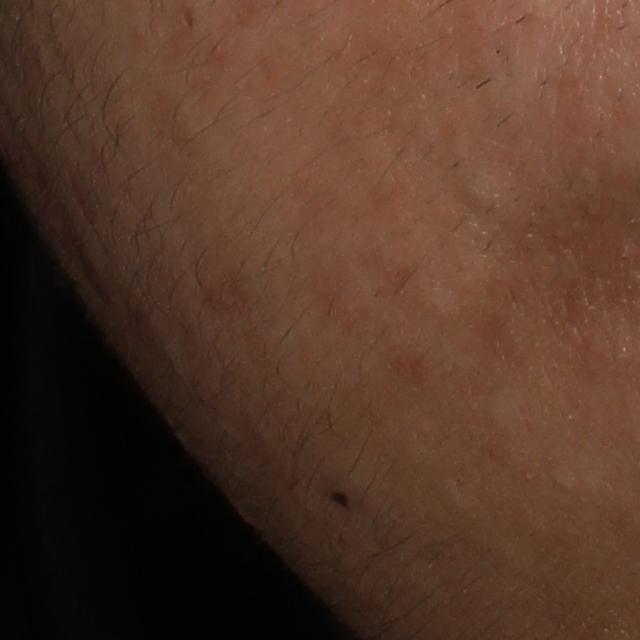nevus: (328, 488, 352, 515)
